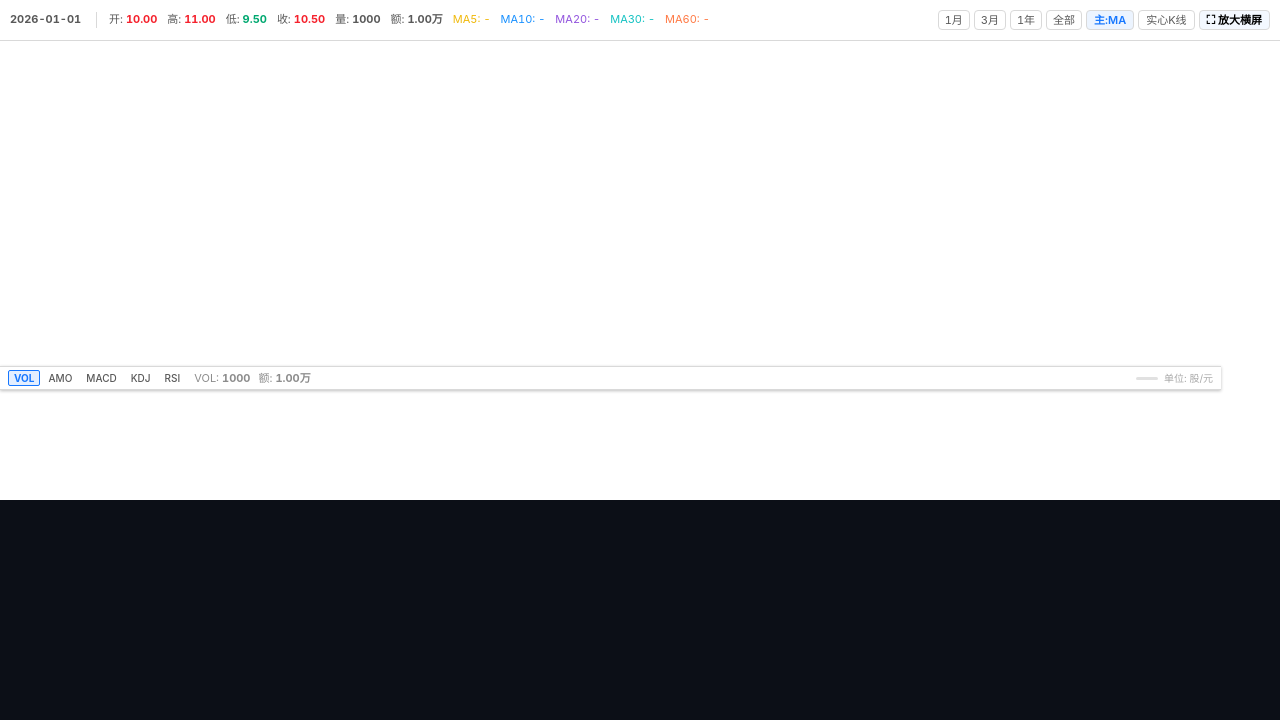
KlineChart › supports landscape fullscreen expansion, 90-degree rotation, and Escape exit
Expected: the text "90°旋转" is not shown
Note: Click to enter landscape mode
Click the button "⛶ 放大横屏" at (1234, 20), box [1199, 10, 1270, 30]
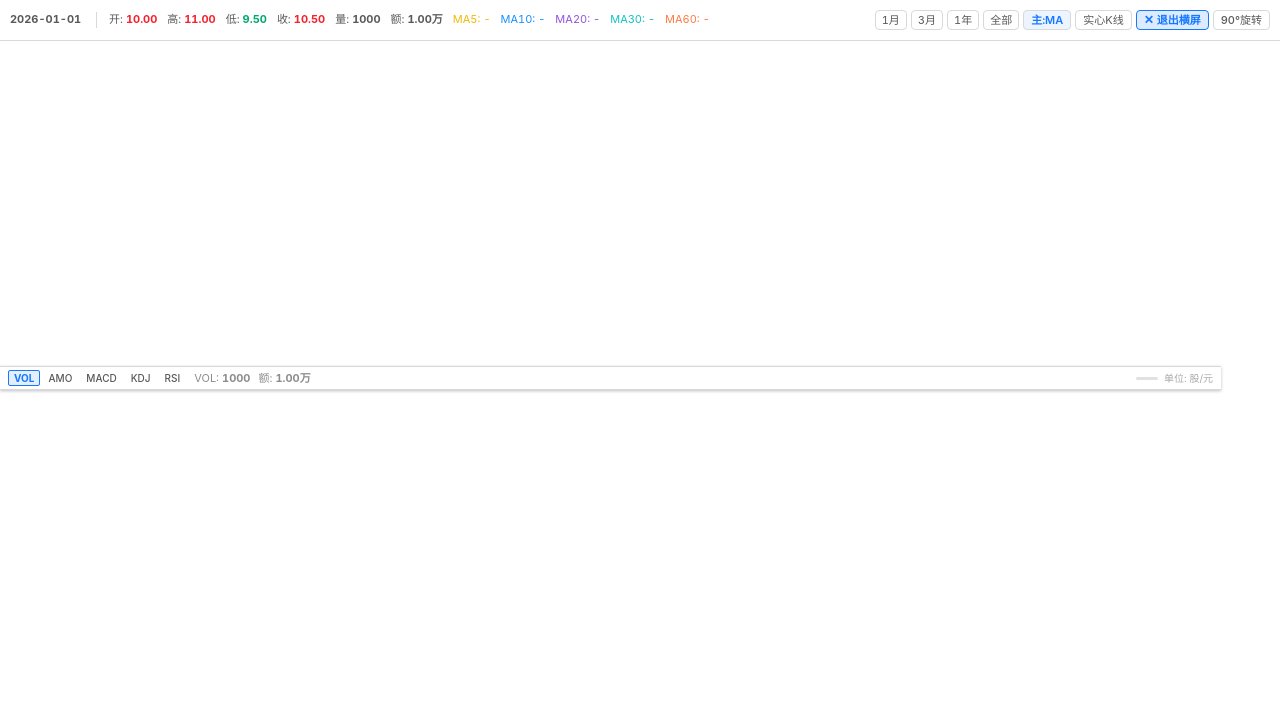
Expected: the button "✕ 退出横屏" is shown, [1136, 10, 1209, 30]
Expected: the button "90°旋转" is shown
Note: Click 90-degree rotate
Click the button "90°旋转" at (1241, 20), box [1213, 10, 1270, 30]
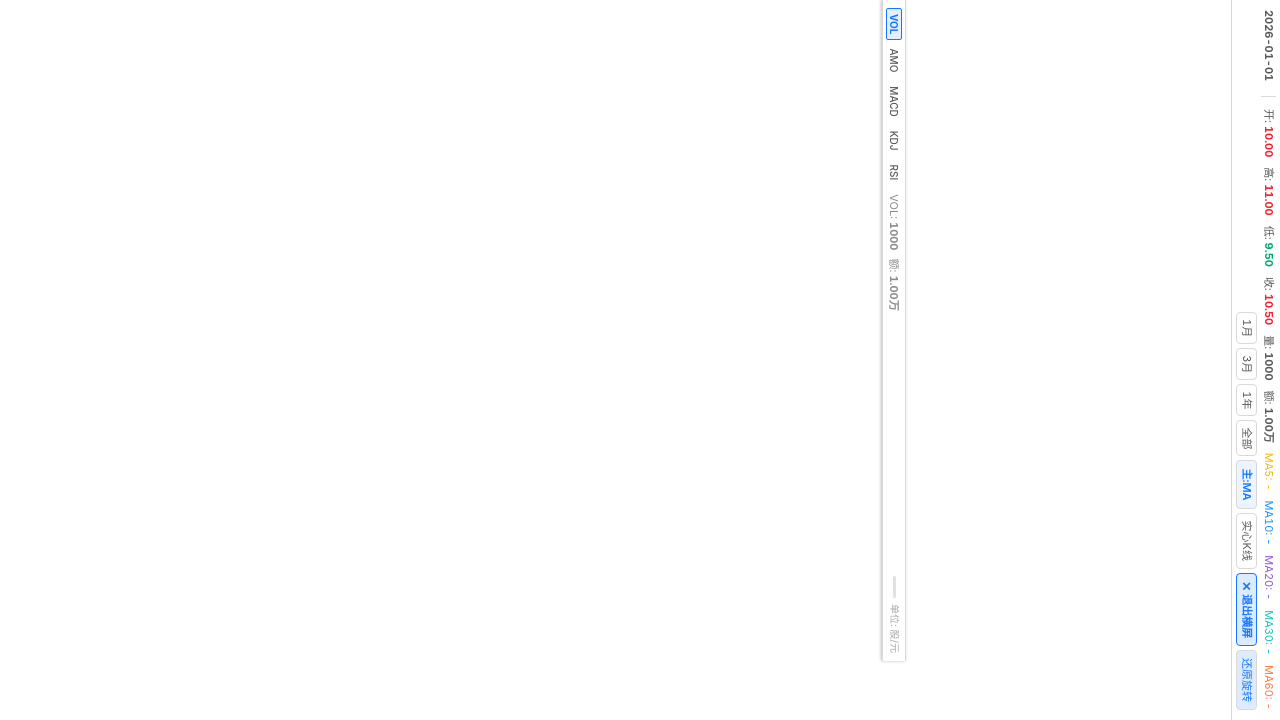
Expected: the button "还原旋转" is shown, [1236, 650, 1257, 710]
Note: Press Escape on the container to exit landscape mode
Press Escape in the element named "K线图交互区"
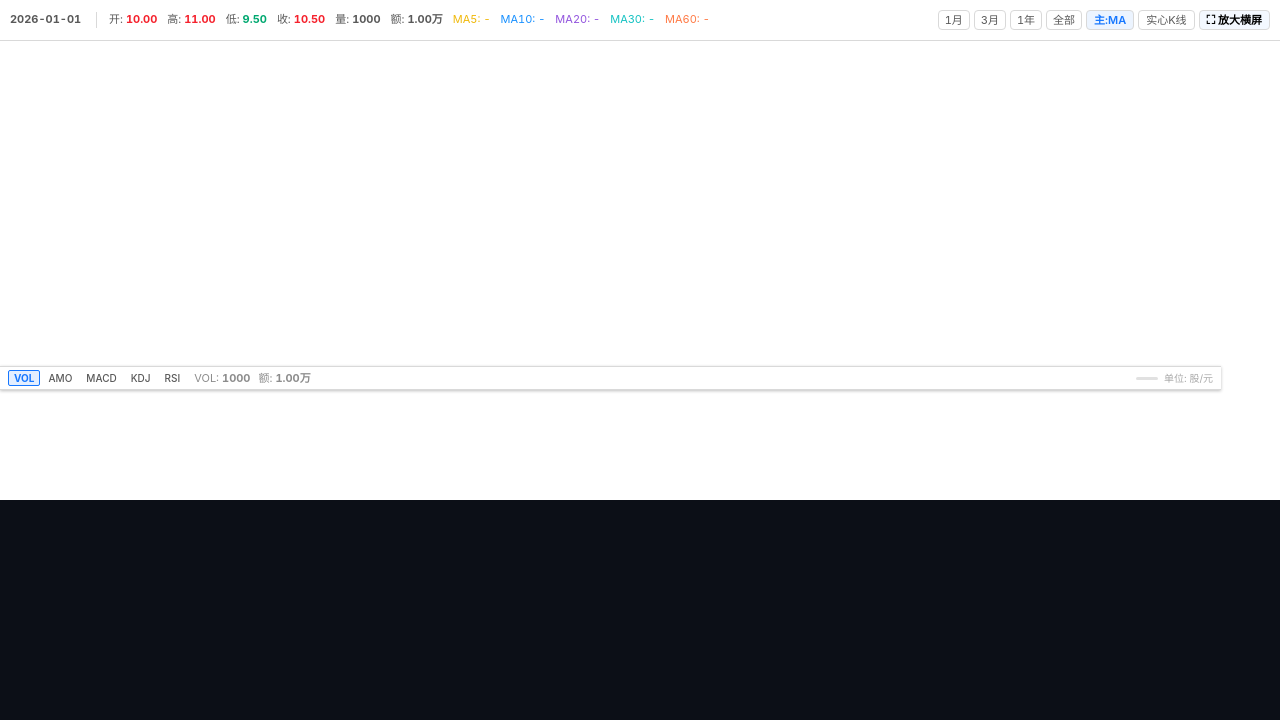
Expected: the button "90°旋转" is not shown
Expected: the button "⛶ 放大横屏" is shown, [1199, 10, 1270, 30]
